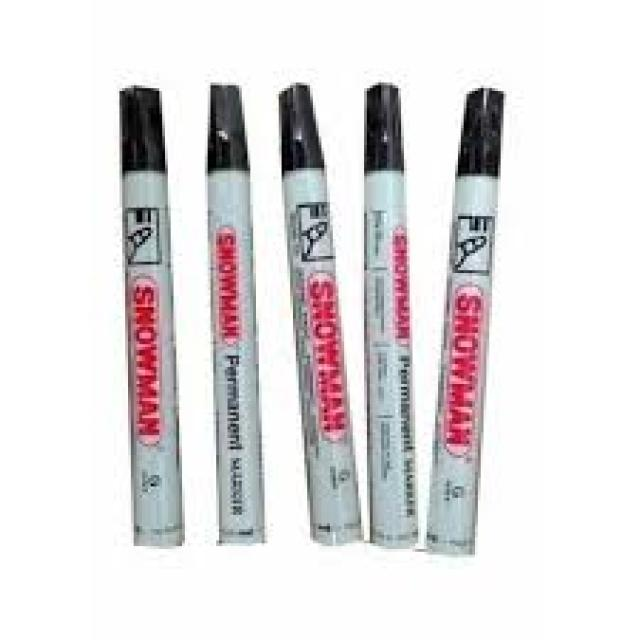marker: (114, 82, 189, 542), (440, 81, 505, 573), (203, 82, 265, 544)
